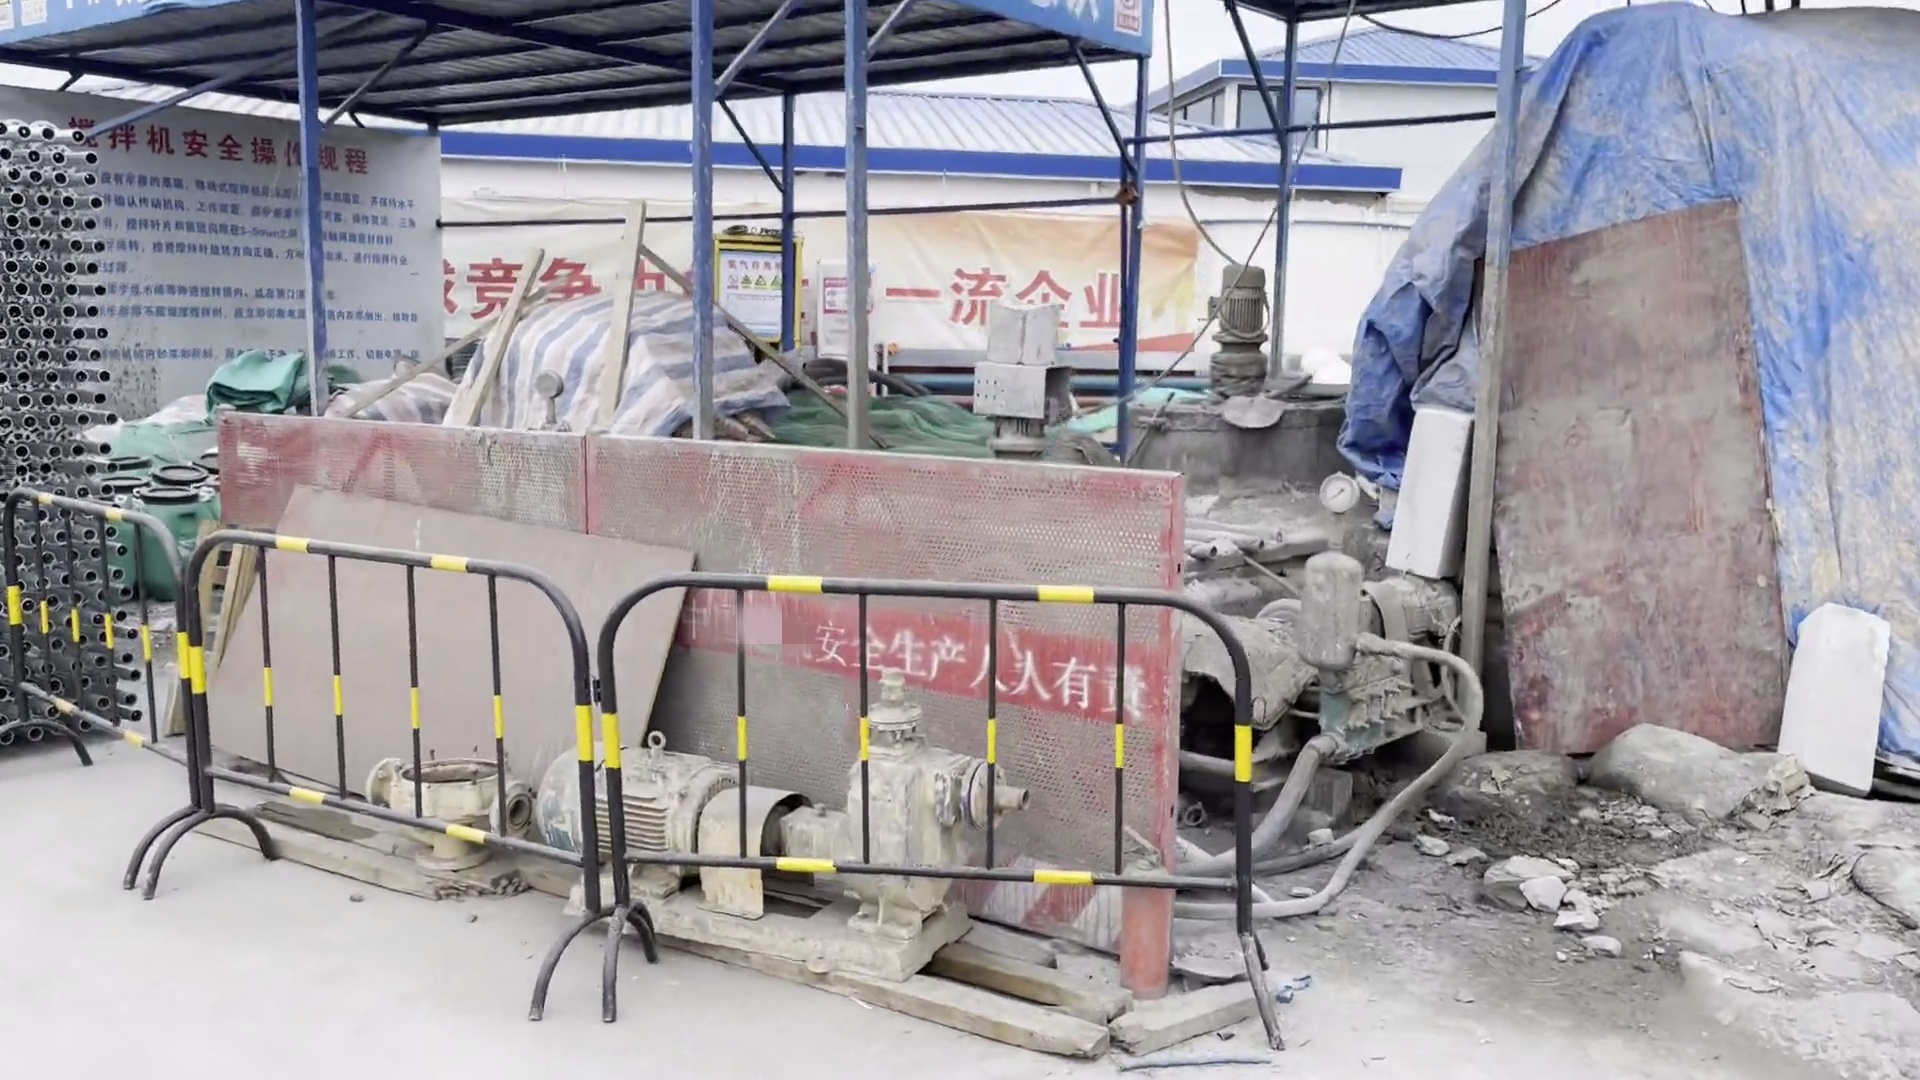scaffold: (1, 95, 152, 742)
slogan: (814, 609, 1145, 716)
